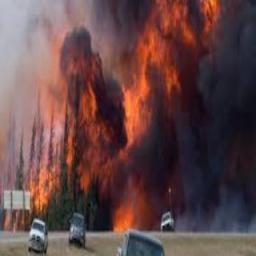Heavy smoke: (2, 0, 256, 228)
Large fire: (33, 0, 220, 232)
